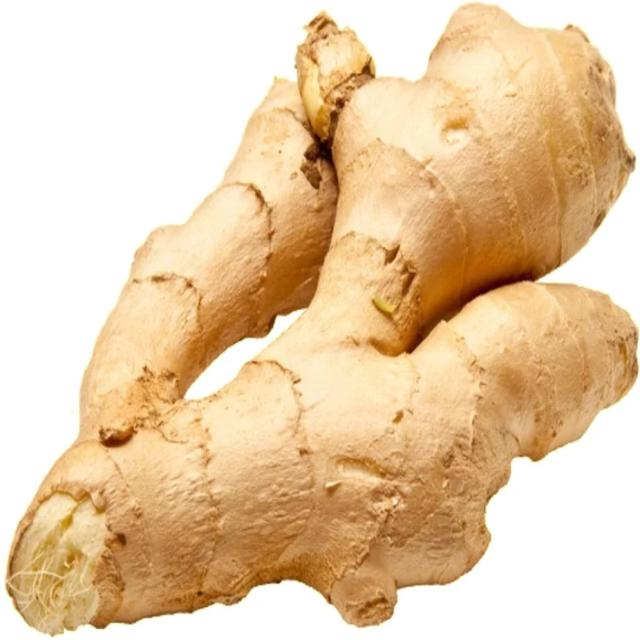ginger-root: (3, 0, 640, 640)
